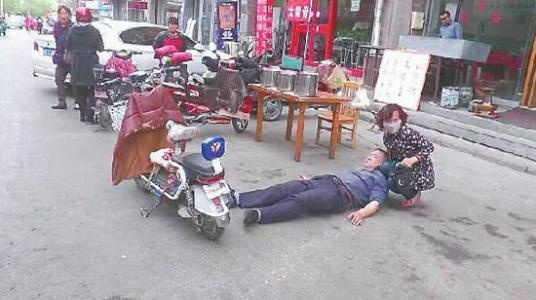falling: (219, 143, 396, 231)
